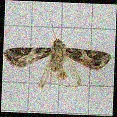Spodoptera litura: (3, 13, 112, 91)
